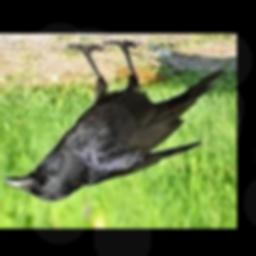Crow: (0, 40, 223, 202)
